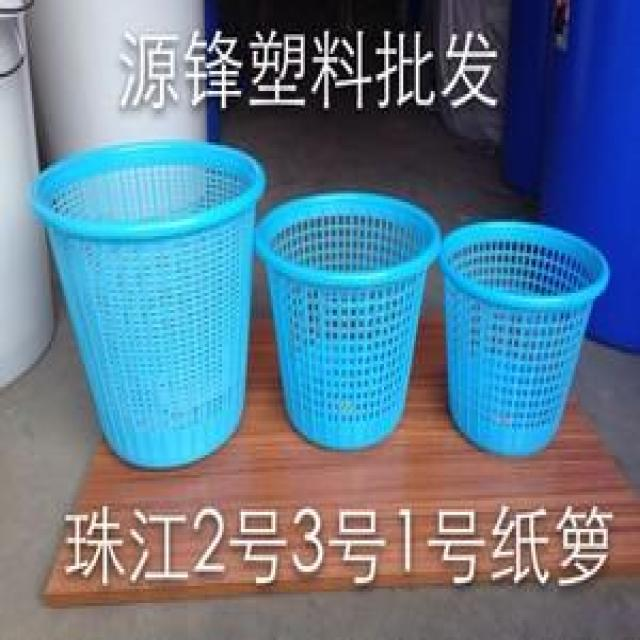dustbin: (26, 136, 268, 472), (252, 184, 442, 453), (442, 214, 612, 468)
